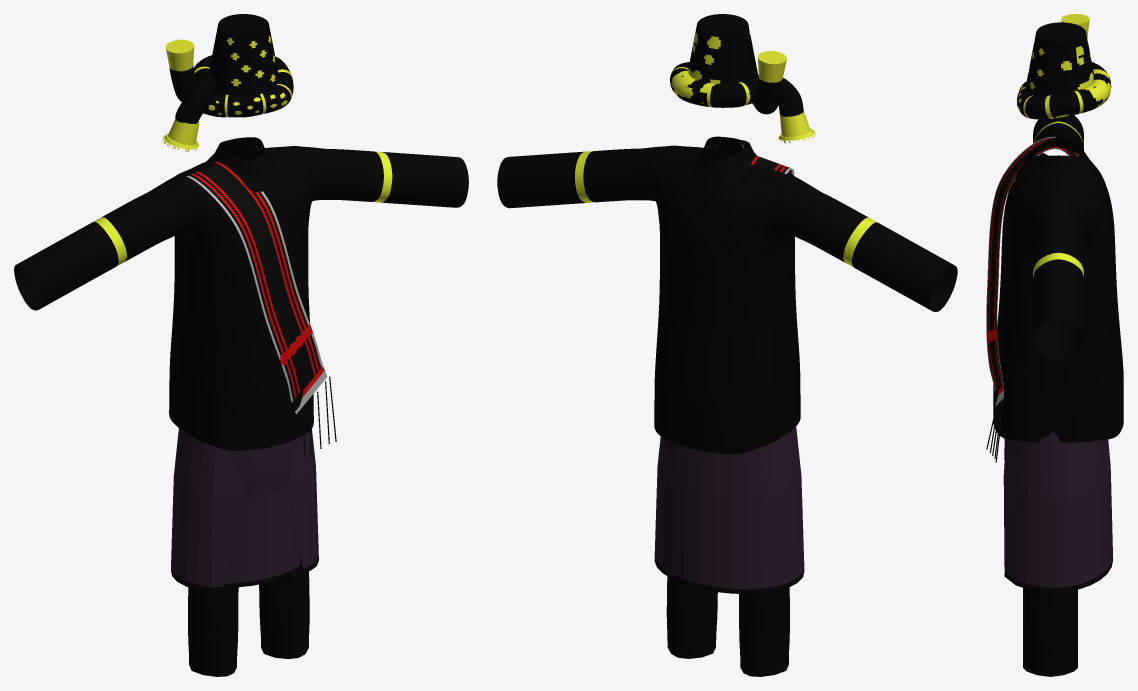
Rendered from Angkola.FBX.
The picture shows the model from 3 angles, left to right: view 1: azimuth 30°, elevation 25°; view 2: azimuth 150°, elevation 25°; view 3: azimuth 270°, elevation 25°; orthographic projection. The views are drawn at different scales.
Visible parts, largest first — view 1: Nias002, Circle008, Line031, Plane032, Plane031; view 2: Nias002, Circle008, Line031, Plane031; view 3: Nias002, Circle008, Line031, Plane031, Plane032, Line030.
Part boxes in pixels (left/top/right/bottom): Nias002: left=14, top=137, right=468, bottom=450; Circle008: left=171, top=428, right=318, bottom=591; Line031: left=162, top=14, right=293, bottom=151; Plane032: left=186, top=161, right=327, bottom=414; Plane031: left=188, top=556, right=309, bottom=676; Nias002: left=497, top=136, right=957, bottom=454; Circle008: left=654, top=426, right=804, bottom=593; Line031: left=670, top=14, right=815, bottom=143; Plane031: left=666, top=576, right=789, bottom=676; Nias002: left=993, top=115, right=1123, bottom=442; Circle008: left=1003, top=430, right=1113, bottom=592; Line031: left=1017, top=14, right=1111, bottom=119; Plane031: left=1023, top=588, right=1077, bottom=676; Plane032: left=986, top=136, right=1078, bottom=405; Line030: left=986, top=399, right=1004, bottom=462.
Bounding box in the file's own units: 127 × 174 × 34.94.
